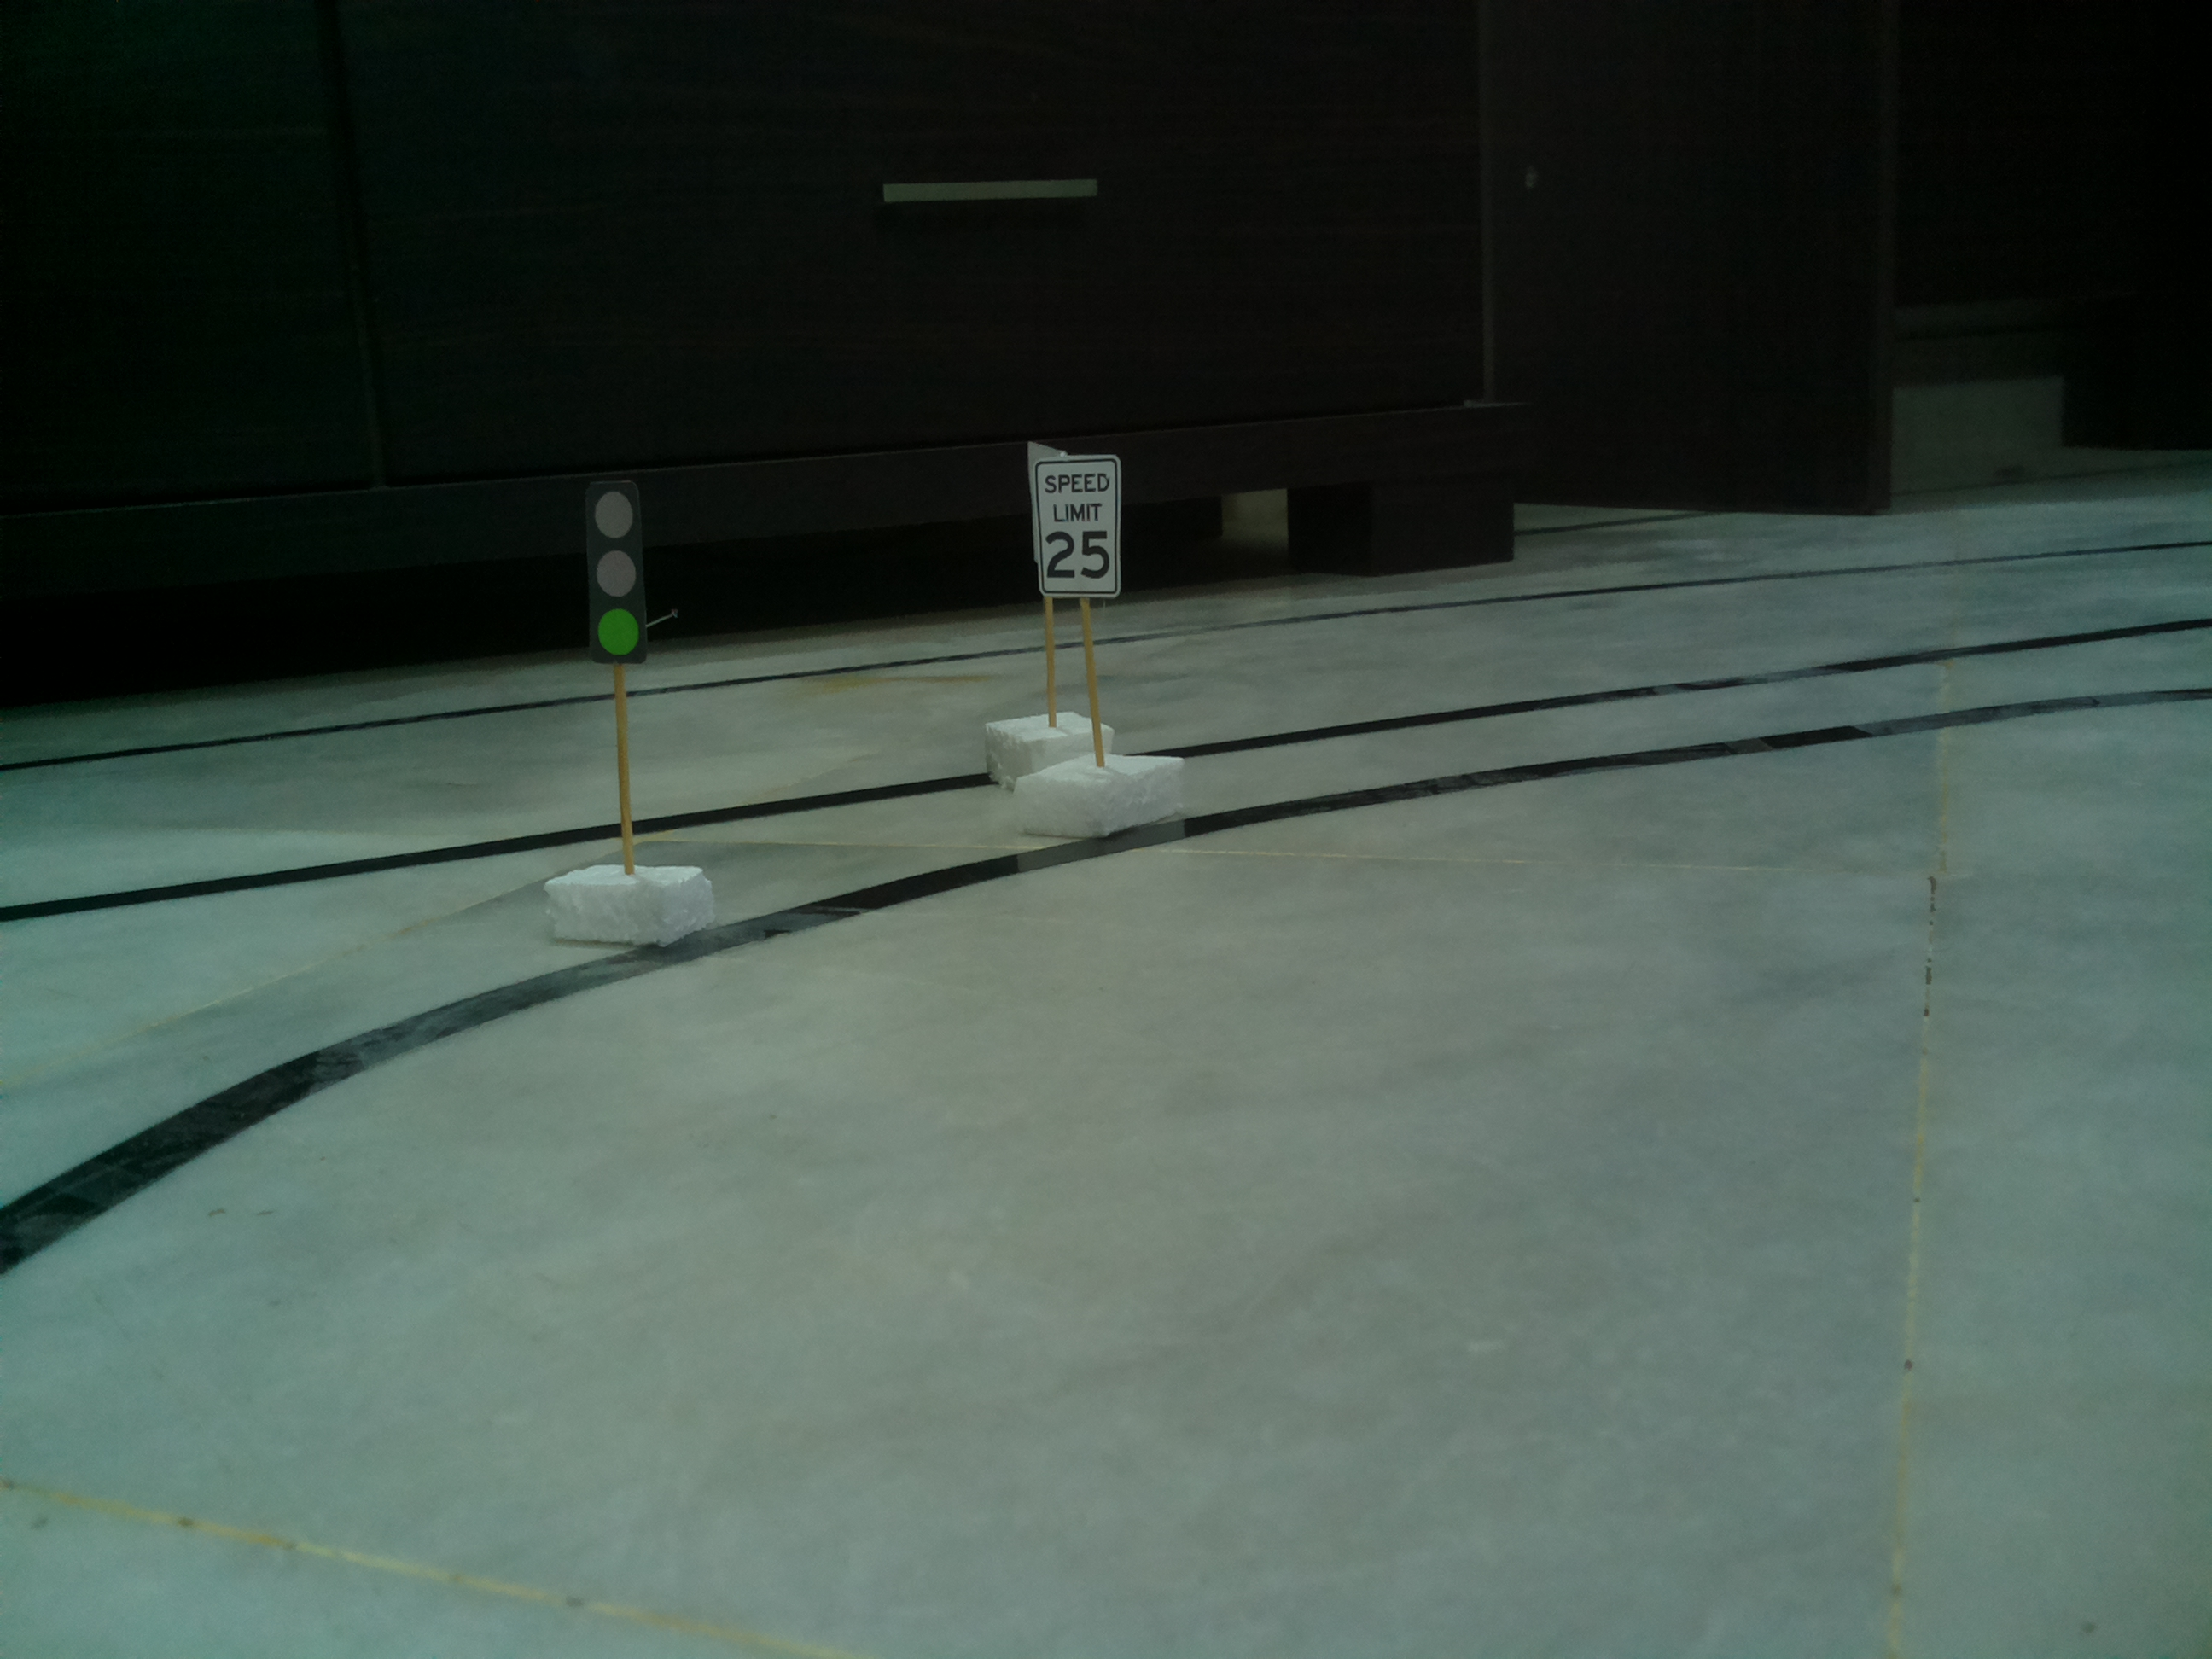Green traffic light: (575, 474, 657, 664)
Speed limit 25: (1028, 453, 1129, 605)
